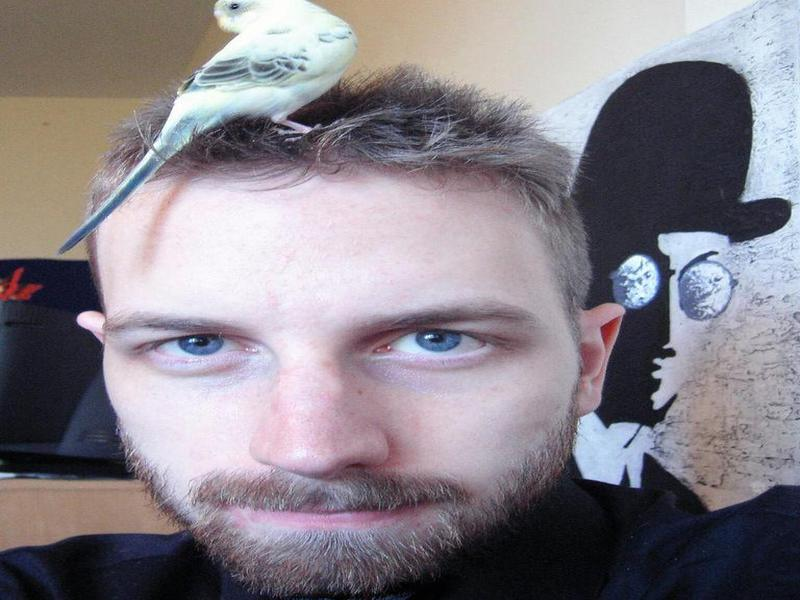person: (23, 81, 797, 600)
